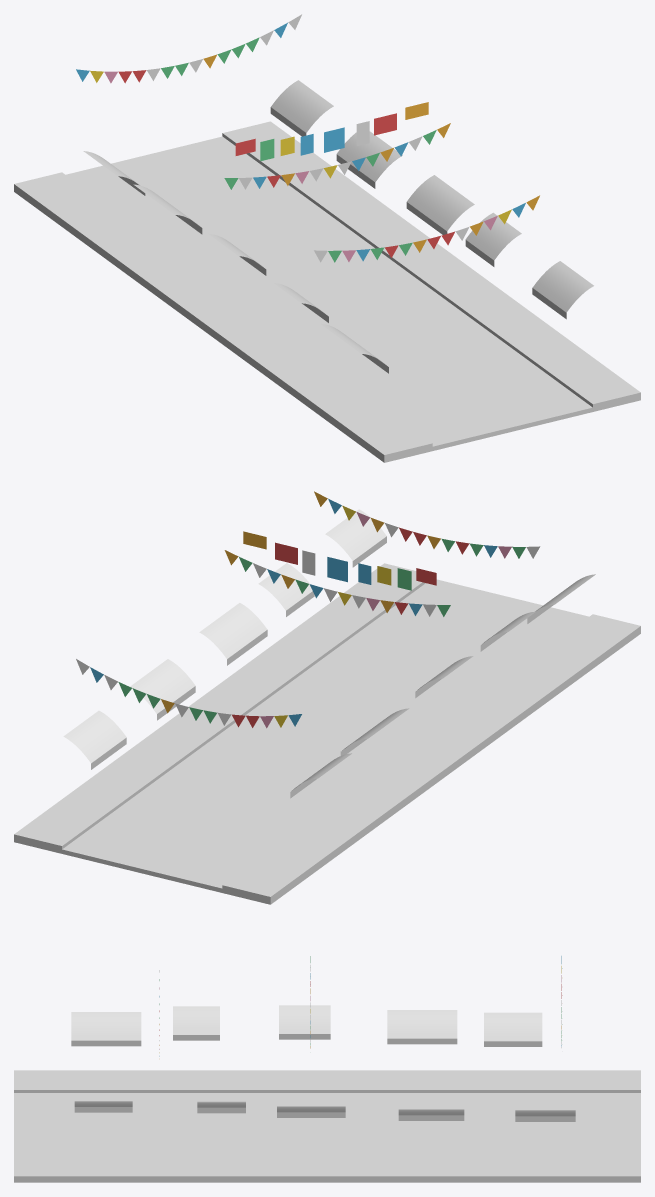
Rendered from Harita_07_Mahalle_Cay_Bahcesi_Ozel.fbx.
3 renders of one model, top to bottom at view 1: azimuth 30°, elevation 25°; view 2: azimuth 150°, elevation 25°; view 3: azimuth 270°, elevation 25°, orthographic. The views are drawn at different scales.
Parts seen in each view (by area): view 1: Harita_07_Yol.001, Harita_07_Kaldirim_L.001, Harita_07_Kaldirim_R.001, Camasirlar.010, Tente.156, Tente.158, Tente.154, Tente.157, Bayraklar.038, Bayraklar.040, Bayraklar.039, Tente.155; view 2: Harita_07_Yol.001, Harita_07_Kaldirim_L.001, Harita_07_Kaldirim_R.001, Camasirlar.010, Tente.156, Tente.158, Tente.157, Tente.154, Bayraklar.038, Bayraklar.039, Bayraklar.040, Tente.155; view 3: Harita_07_Yol.001, Harita_07_Kaldirim_R.001, Harita_07_Kaldirim_L.001, Tente.149, Tente.152, Tente.153, Tente.151, Tente.150, Tente.156, Tente.157, Tente.158, Tente.154 (+1 smaller).
Part boxes in pixels (box(x1,y1,x2,y2)): Harita_07_Yol.001: box(66, 136, 592, 450); Harita_07_Kaldirim_L.001: box(14, 172, 432, 462); Harita_07_Kaldirim_R.001: box(222, 121, 640, 411); Camasirlar.010: box(235, 102, 428, 161); Tente.156: box(406, 175, 474, 234); Tente.158: box(270, 80, 333, 136); Tente.154: box(532, 261, 593, 319); Tente.157: box(336, 131, 402, 188); Bayraklar.038: box(314, 195, 539, 262); Bayraklar.040: box(76, 14, 301, 83); Bayraklar.039: box(224, 123, 450, 189); Tente.155: box(465, 212, 521, 266); Harita_07_Yol.001: box(62, 579, 588, 892); Harita_07_Kaldirim_L.001: box(222, 614, 640, 904); Harita_07_Kaldirim_R.001: box(14, 563, 425, 853); Camasirlar.010: box(243, 531, 436, 590); Tente.156: box(199, 603, 267, 665); Tente.158: box(63, 710, 126, 769); Tente.157: box(130, 659, 195, 720); Tente.154: box(325, 509, 386, 567); Bayraklar.038: box(314, 491, 540, 558); Bayraklar.039: box(224, 550, 450, 616); Bayraklar.040: box(76, 659, 301, 728); Tente.155: box(258, 563, 314, 616); Harita_07_Yol.001: box(14, 1093, 640, 1156); Harita_07_Kaldirim_R.001: box(14, 1156, 640, 1182); Harita_07_Kaldirim_L.001: box(14, 1070, 640, 1092); Tente.149: box(71, 1012, 141, 1046); Tente.152: box(387, 1010, 457, 1044); Tente.153: box(484, 1012, 542, 1046); Tente.151: box(279, 1005, 330, 1039); Tente.150: box(173, 1006, 219, 1040); Tente.156: box(277, 1106, 345, 1117); Tente.157: box(398, 1109, 464, 1120); Tente.158: box(515, 1110, 575, 1121); Tente.154: box(74, 1101, 132, 1112).
Size of the model in its own units: 12 by 8.19 by 30.
